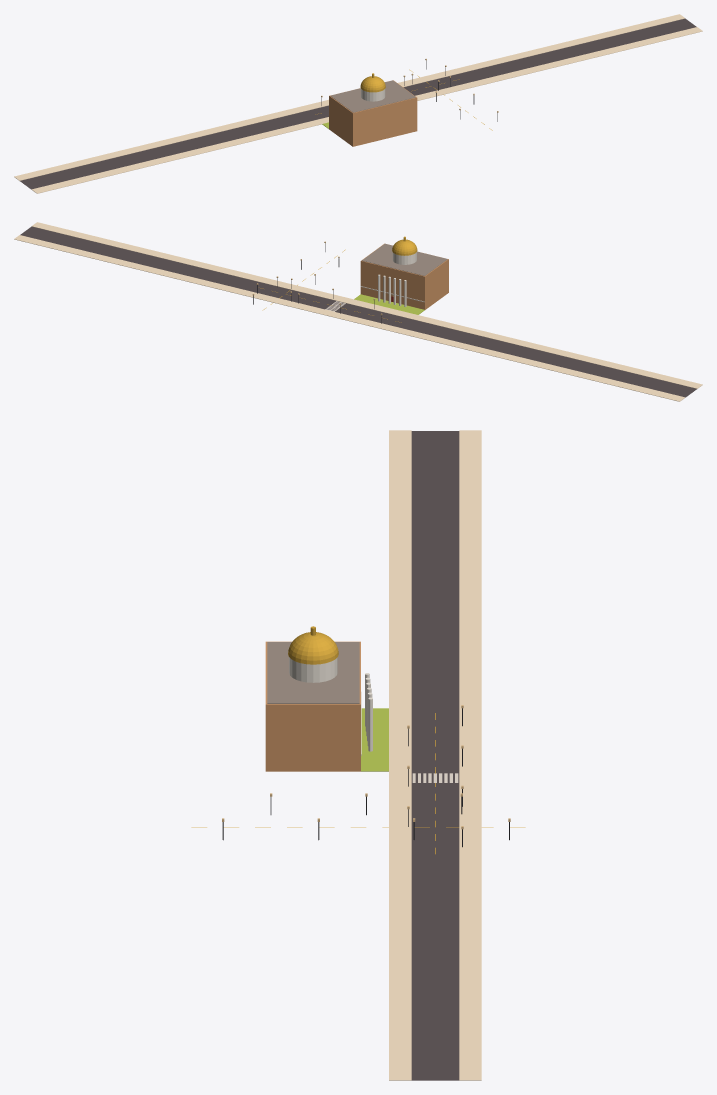
File: chunk_0_2.glb
The picture shows the model from 3 angles, top to bottom: view 1: azimuth 30°, elevation 25°; view 2: azimuth 150°, elevation 25°; view 3: azimuth 270°, elevation 25°; orthographic projection. The views are drawn at different scales.
Visible parts, largest first — view 1: chunk_0_2__ground, chunk_0_2__building, chunk_0_2__statehouse; view 2: chunk_0_2__ground, chunk_0_2__building, chunk_0_2__statehouse; view 3: chunk_0_2__ground, chunk_0_2__building, chunk_0_2__statehouse.
Boxes of the visible parts, x1=… form: chunk_0_2__ground: x1=14, y1=14, x2=702, y2=193; chunk_0_2__building: x1=329, y1=80, x2=417, y2=146; chunk_0_2__statehouse: x1=360, y1=73, x2=385, y2=101; chunk_0_2__ground: x1=14, y1=222, x2=702, y2=401; chunk_0_2__building: x1=360, y1=243, x2=448, y2=309; chunk_0_2__statehouse: x1=378, y1=236, x2=417, y2=306; chunk_0_2__ground: x1=191, y1=430, x2=525, y2=1080; chunk_0_2__building: x1=265, y1=641, x2=361, y2=771; chunk_0_2__statehouse: x1=288, y1=626, x2=372, y2=751.
Bounding box in the file's own units: 290 × 23.5 × 63.
